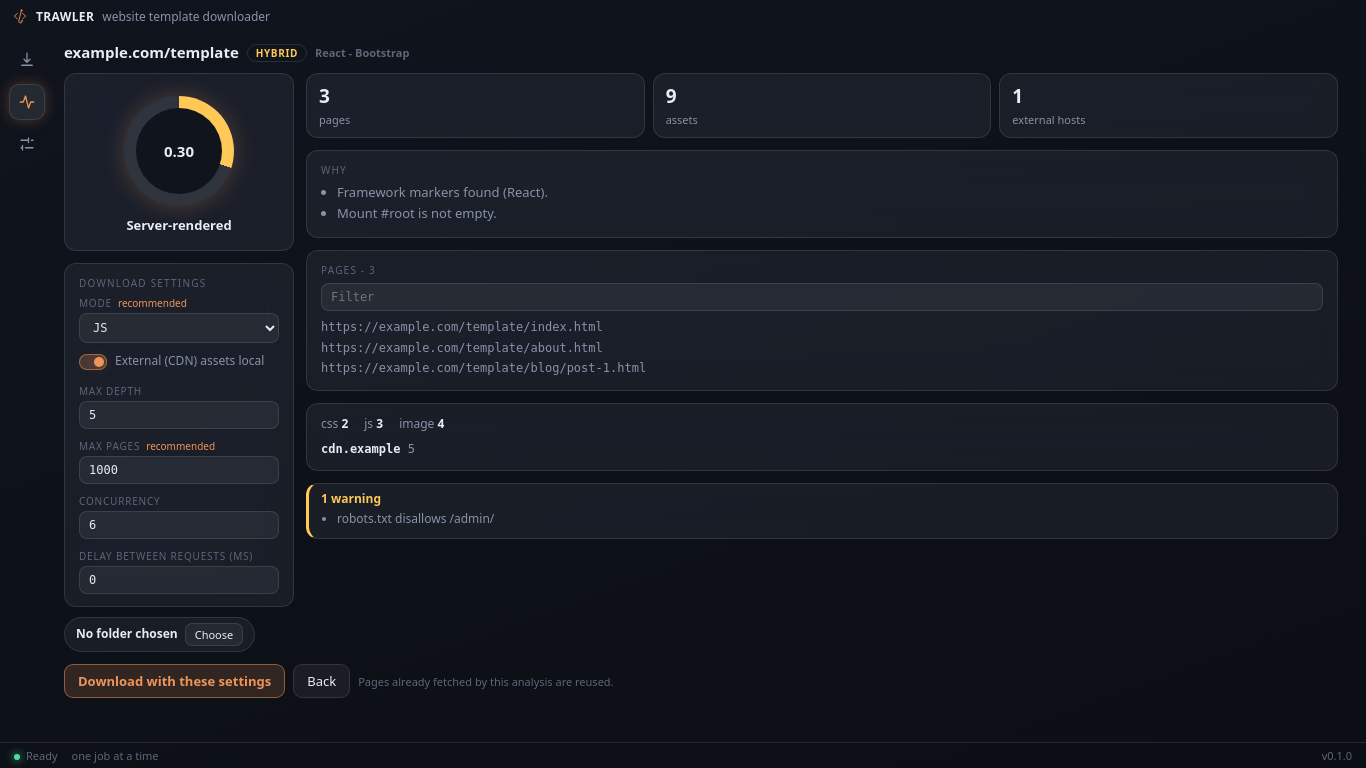
Test: Analysis screen › filters the page list
This screenshot has width=1366, height=768.
Type "blog" into the field named "Filter pages" at (822, 297), box x1=321 y1=283 x2=1323 y2=311
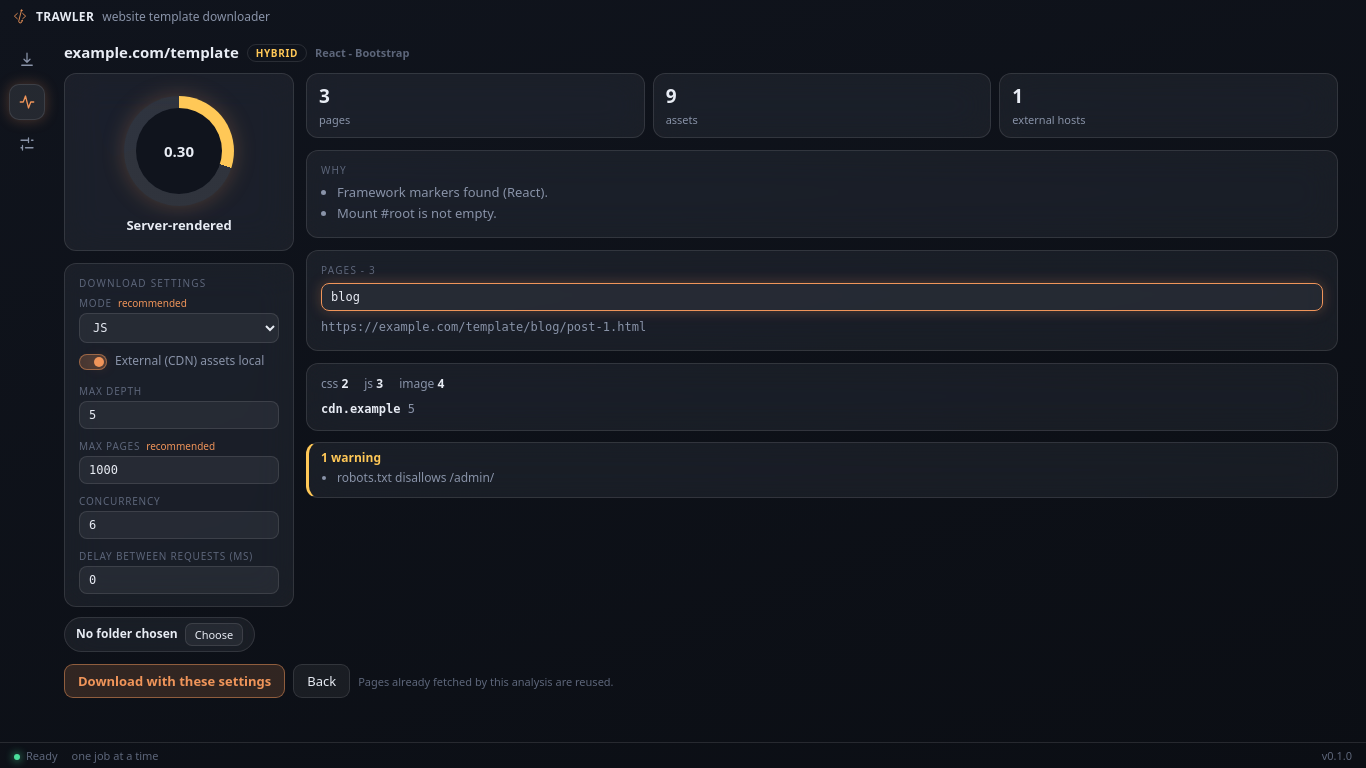
Check: the text "https://example.com/template/blog/post-1.html" is shown, box x1=321 y1=320 x2=646 y2=334
Check: the text "https://example.com/template/about.html" is gone
